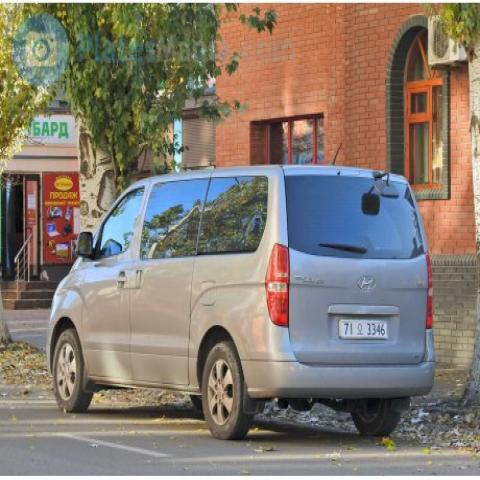LP: (337, 309, 391, 347)
